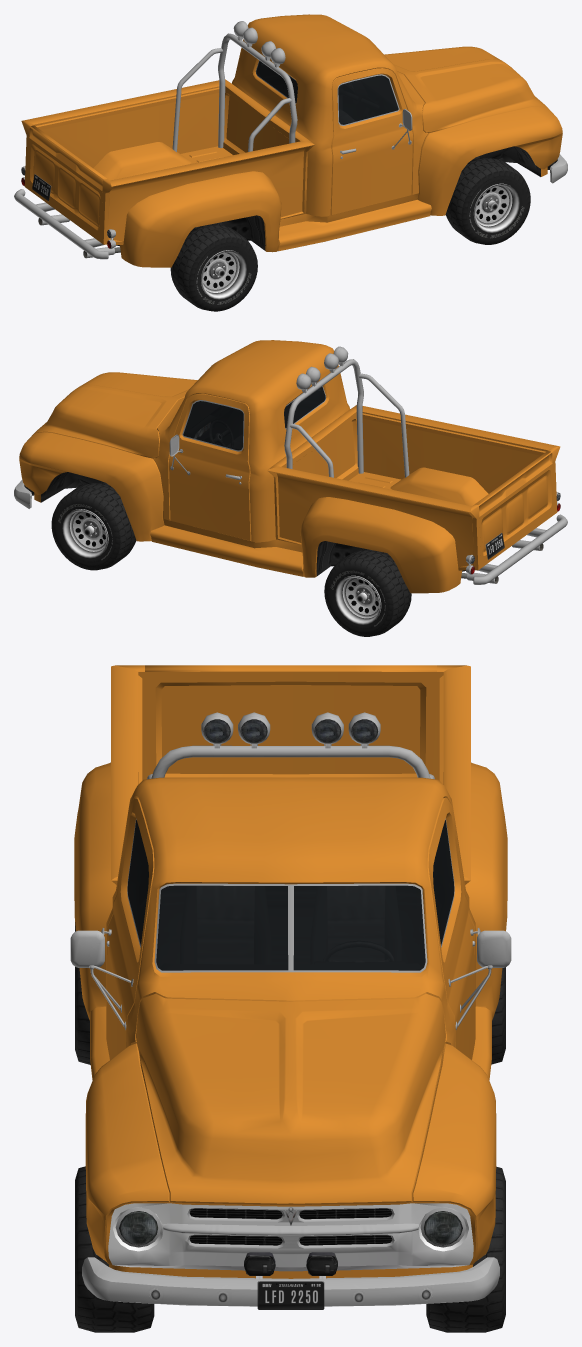
Rendered from g-rancher.glb.
The picture shows the model from 3 angles, top to bottom: view 1: azimuth 30°, elevation 25°; view 2: azimuth 150°, elevation 25°; view 3: azimuth 270°, elevation 25°; orthographic projection. The views are drawn at different scales.
Visible parts, largest first — view 1: Rancher50_Body_RNCHR50CSTM_Bodymat_0, Rancher50_Hood_RNCHR50CSTM_Bodymat_0, Rancher50_WheelLift_RR_RO1a_Tire_0, Rancher50_WheelLift_FR_RO1a_Tire_0, Rancher50_Trunkdoor_RNCHR50CSTM_Bodymat_0, Rancher50_ExtraA_UCB_BOTTOM_0, Rancher50_Interior_UCB_Interiors_2_0, Rancher50_Bottom_UCB_BOTTOM_0, Rancher50_Glass_Passangers_UCB_Lights_and_Glass_Transperent_, Rancher50_bumper_rear_A_UCB_BOTTOM_0, Rancher50_Rear_Glass_UCB_Lights_and_Glass_Transperent_0; view 2: Rancher50_Body_RNCHR50CSTM_Bodymat_0, Rancher50_Hood_RNCHR50CSTM_Bodymat_0, Rancher50_WheelLift_RL_RO1a_Tire_0, Rancher50_WheelLift_FL_RO1a_Tire_0, Rancher50_Trunkdoor_RNCHR50CSTM_Bodymat_0, Rancher50_ExtraA_UCB_BOTTOM_0, Rancher50_Bottom_UCB_BOTTOM_0, Rancher50_Interior_UCB_Interiors_2_0, Rancher50_Glass_Driver_UCB_Lights_and_Glass_Transperent_0, Rancher50_bumper_rear_A_UCB_BOTTOM_0, Rancher50_Rear_Glass_UCB_Lights_and_Glass_Transperent_0; view 3: Rancher50_Body_RNCHR50CSTM_Bodymat_0, Rancher50_Hood_RNCHR50CSTM_Bodymat_0, Rancher50_Trunkdoor_RNCHR50CSTM_Bodymat_0, Rancher50_Interior_UCB_Interiors_2_0, Rancher50_Bottom_UCB_BOTTOM_0, Rancher50_Windshield_UCB_Lights_and_Glass_Transperent_0, Rancher50_Bumper_front_B_UCB_BOTTOM_0, Rancher50_ExtraA_UCB_BOTTOM_0, Rancher50_WheelLift_FR_RO1a_Tire_0, Rancher50_WheelLift_FL_RO1a_Tire_0, Rancher50_LFTD_Trim_UCB_BOTTOM_0, Rancher50_Headlights_Glass_UCB_Lights_and_Glass_Transperent_ (+6 smaller).
Part boxes in pixels (bbox=[...]): Rancher50_Body_RNCHR50CSTM_Bodymat_0: bbox=[21, 14, 562, 267]; Rancher50_Hood_RNCHR50CSTM_Bodymat_0: bbox=[384, 46, 548, 132]; Rancher50_WheelLift_RR_RO1a_Tire_0: bbox=[170, 224, 257, 311]; Rancher50_WheelLift_FR_RO1a_Tire_0: bbox=[445, 157, 530, 244]; Rancher50_Trunkdoor_RNCHR50CSTM_Bodymat_0: bbox=[27, 125, 106, 239]; Rancher50_ExtraA_UCB_BOTTOM_0: bbox=[172, 21, 297, 151]; Rancher50_Interior_UCB_Interiors_2_0: bbox=[257, 62, 398, 124]; Rancher50_Bottom_UCB_BOTTOM_0: bbox=[23, 60, 540, 258]; Rancher50_Glass_Passangers_UCB_Lights_and_Glass_Transperent_: bbox=[338, 75, 398, 124]; Rancher50_bumper_rear_A_UCB_BOTTOM_0: bbox=[14, 189, 108, 259]; Rancher50_Rear_Glass_UCB_Lights_and_Glass_Transperent_0: bbox=[256, 61, 297, 102]; Rancher50_Body_RNCHR50CSTM_Bodymat_0: bbox=[19, 340, 560, 593]; Rancher50_Hood_RNCHR50CSTM_Bodymat_0: bbox=[34, 372, 197, 458]; Rancher50_WheelLift_RL_RO1a_Tire_0: bbox=[324, 549, 411, 636]; Rancher50_WheelLift_FL_RO1a_Tire_0: bbox=[51, 483, 136, 570]; Rancher50_Trunkdoor_RNCHR50CSTM_Bodymat_0: bbox=[475, 451, 554, 564]; Rancher50_ExtraA_UCB_BOTTOM_0: bbox=[284, 346, 409, 477]; Rancher50_Bottom_UCB_BOTTOM_0: bbox=[41, 386, 559, 583]; Rancher50_Interior_UCB_Interiors_2_0: bbox=[183, 387, 325, 449]; Rancher50_Glass_Driver_UCB_Lights_and_Glass_Transperent_0: bbox=[183, 401, 243, 450]; Rancher50_bumper_rear_A_UCB_BOTTOM_0: bbox=[473, 514, 567, 584]; Rancher50_Rear_Glass_UCB_Lights_and_Glass_Transperent_0: bbox=[284, 386, 325, 428]; Rancher50_Body_RNCHR50CSTM_Bodymat_0: bbox=[74, 665, 507, 1278]; Rancher50_Hood_RNCHR50CSTM_Bodymat_0: bbox=[136, 993, 445, 1204]; Rancher50_Trunkdoor_RNCHR50CSTM_Bodymat_0: bbox=[144, 665, 437, 779]; Rancher50_Interior_UCB_Interiors_2_0: bbox=[128, 820, 453, 970]; Rancher50_Bottom_UCB_BOTTOM_0: bbox=[101, 762, 480, 1271]; Rancher50_Windshield_UCB_Lights_and_Glass_Transperent_0: bbox=[156, 885, 425, 970]; Rancher50_Bumper_front_B_UCB_BOTTOM_0: bbox=[82, 1252, 499, 1306]; Rancher50_ExtraA_UCB_BOTTOM_0: bbox=[147, 712, 434, 779]; Rancher50_WheelLift_FR_RO1a_Tire_0: bbox=[75, 1166, 154, 1332]; Rancher50_WheelLift_FL_RO1a_Tire_0: bbox=[426, 1166, 505, 1332]; Rancher50_LFTD_Trim_UCB_BOTTOM_0: bbox=[70, 930, 511, 1029]; Rancher50_Headlights_Glass_UCB_Lights_and_Glass_Transperent_: bbox=[119, 1211, 462, 1245].
Bounding box in the file's own units: 4.95 × 2.14 × 1.97.
8 materials, 7 textured.
